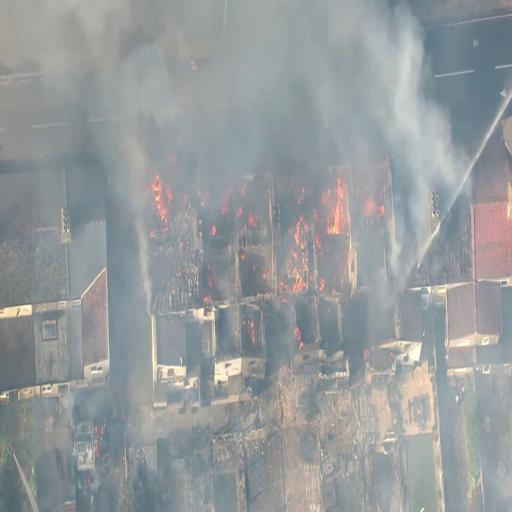fire: (322, 166, 350, 236)
smoke: (228, 2, 396, 142), (119, 0, 212, 153)
